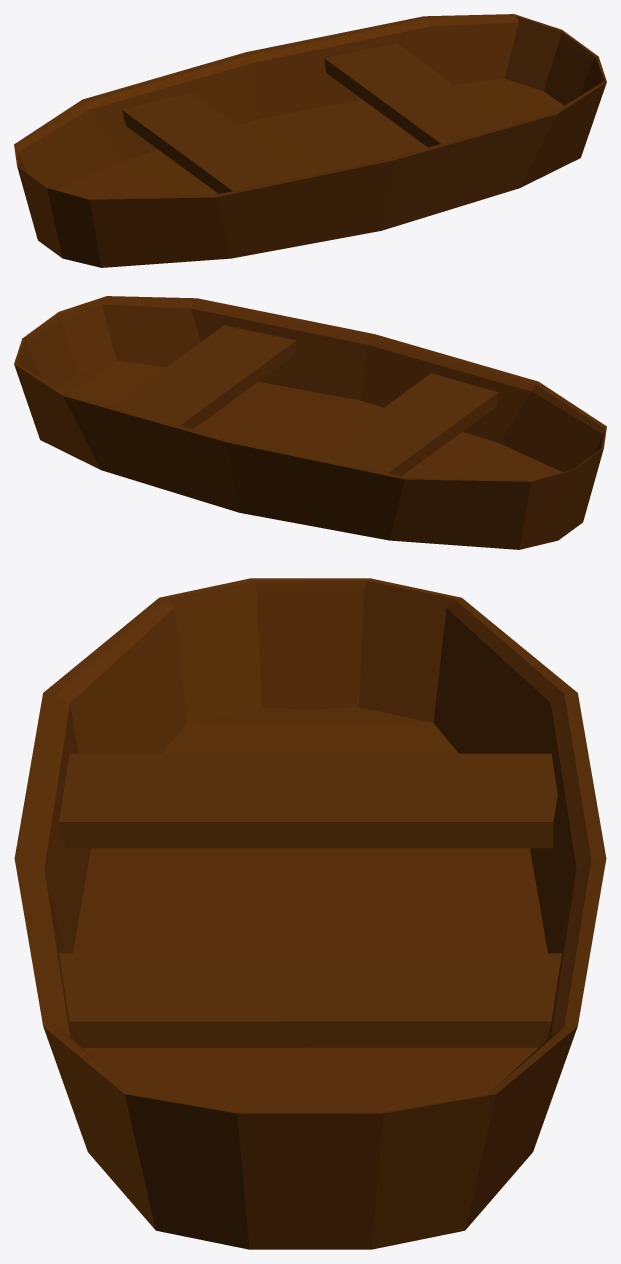
File: boat.fbx
The picture shows the model from 3 angles, top to bottom: view 1: azimuth 30°, elevation 25°; view 2: azimuth 150°, elevation 25°; view 3: azimuth 270°, elevation 25°; orthographic projection. The views are drawn at different scales.
Visible parts, largest first — view 1: Cube; view 2: Cube; view 3: Cube.
Boxes of the visible parts, x1,y1,x2,y2 form: Cube: (14,14,606,267); Cube: (14,296,606,549); Cube: (14,578,606,1249).
Bounding box in the file's own units: 368 × 50.9 × 172.
